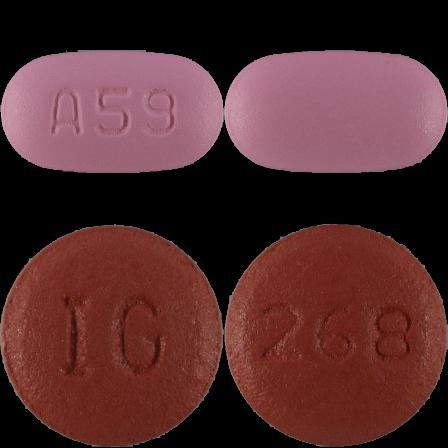50090-0921: (0, 0, 224, 224)
